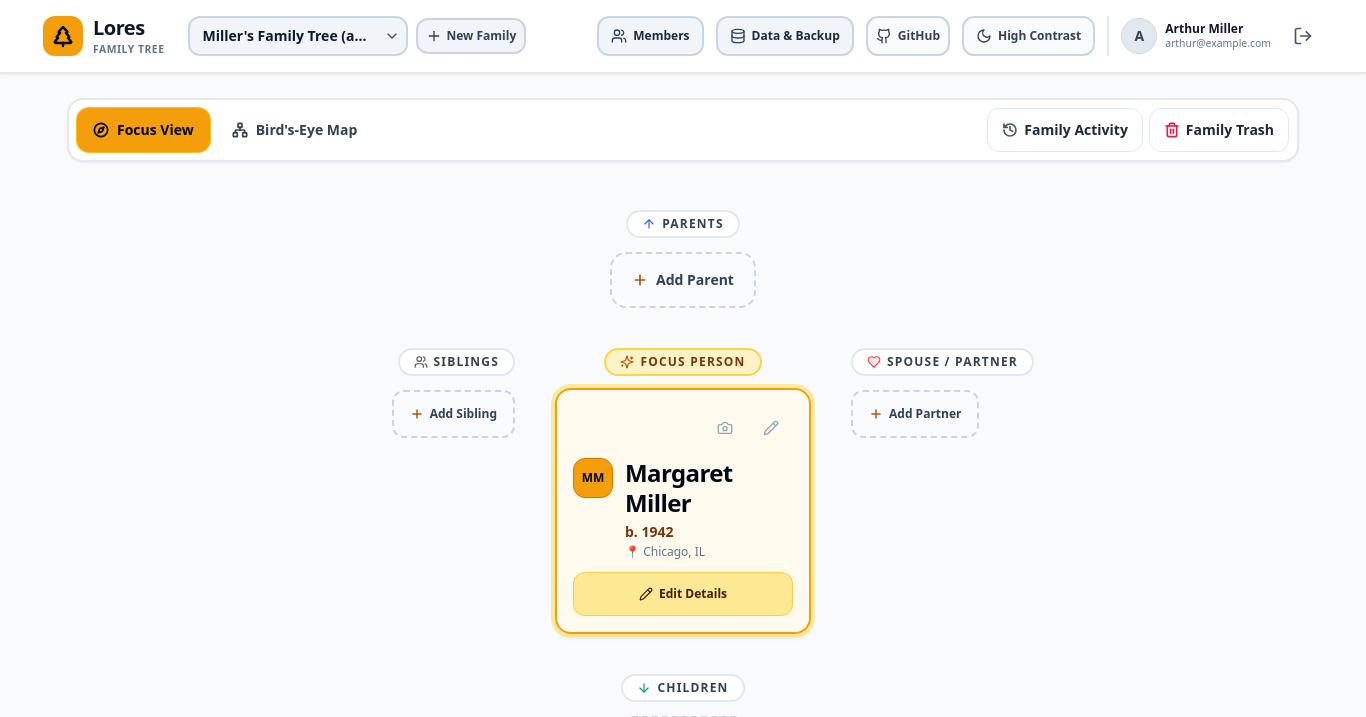
Test case: App navigation and modals › opens FamilyMembersModal when Members button is clicked in header for admin
Step 1. Click the button with aria-label "Manage Family Members" → (650, 36), box [597,16,704,56]
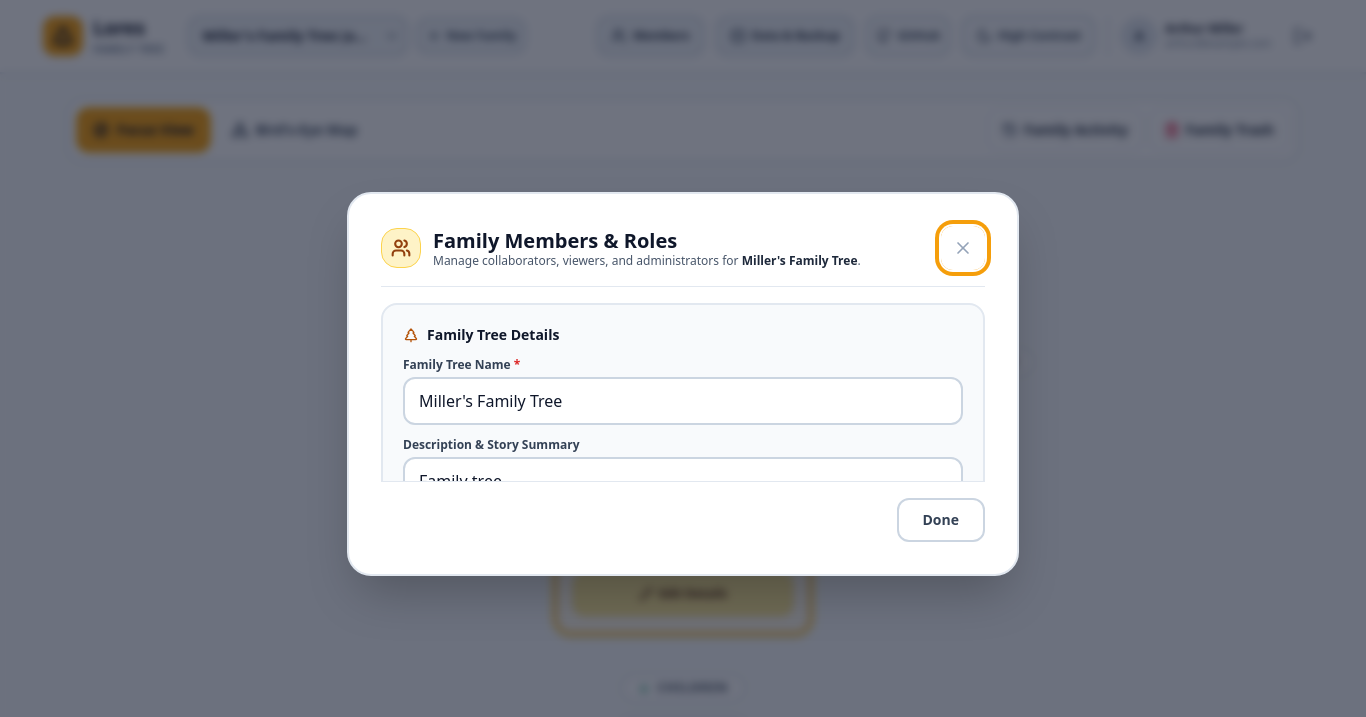
Expected: the heading "Family Members & Roles" is shown, [433,226,677,254]
